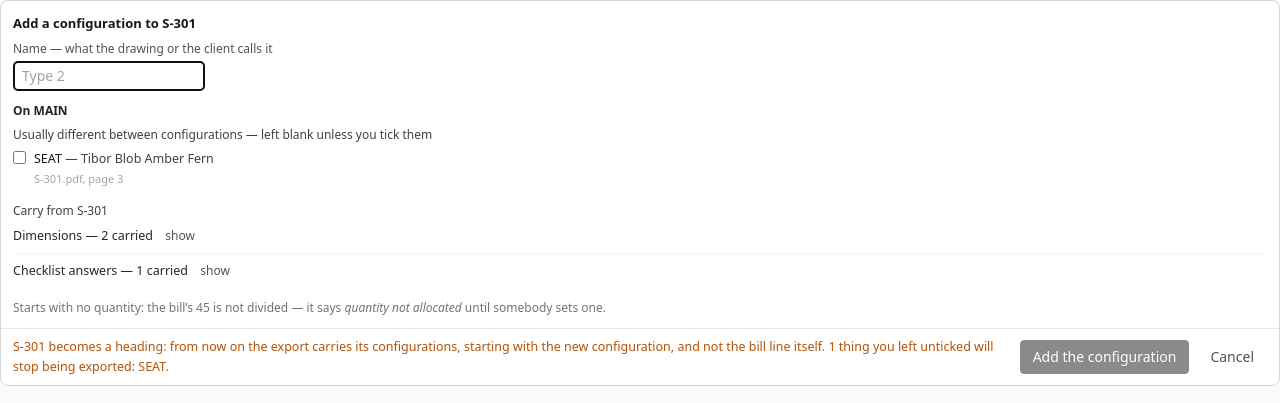
adding a configuration › says what stops being exported, and follows the ticks
Expected: the text "S-301 becomes a heading" shows "1 thing you left unticked will stop being exported: SEAT.", [13,338,994,375]
Click the checkbox named "Carry SEAT on MAIN" at {"x": 20, "y": 158}, box [13,151,26,164]
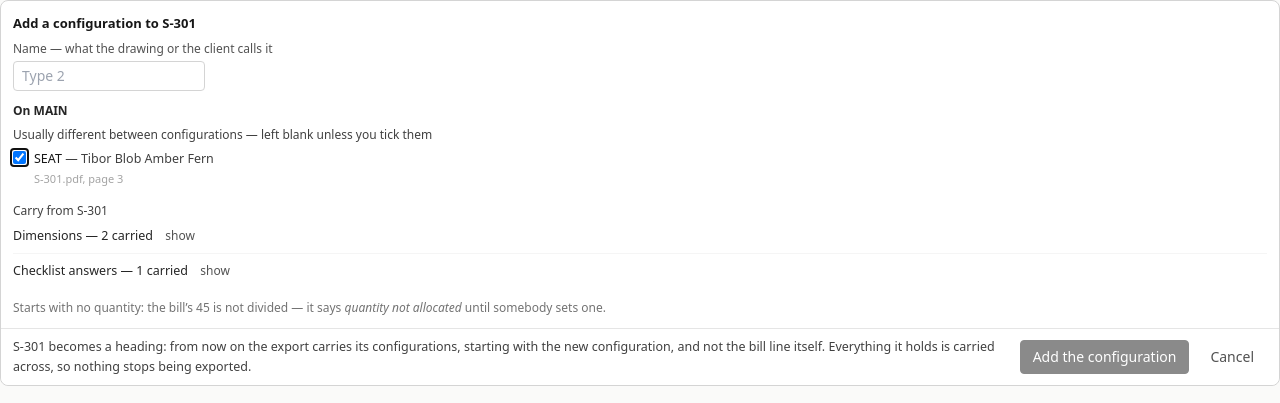
Now the text "S-301 becomes a heading" shows "nothing stops being exported", box [13,338,995,375]
